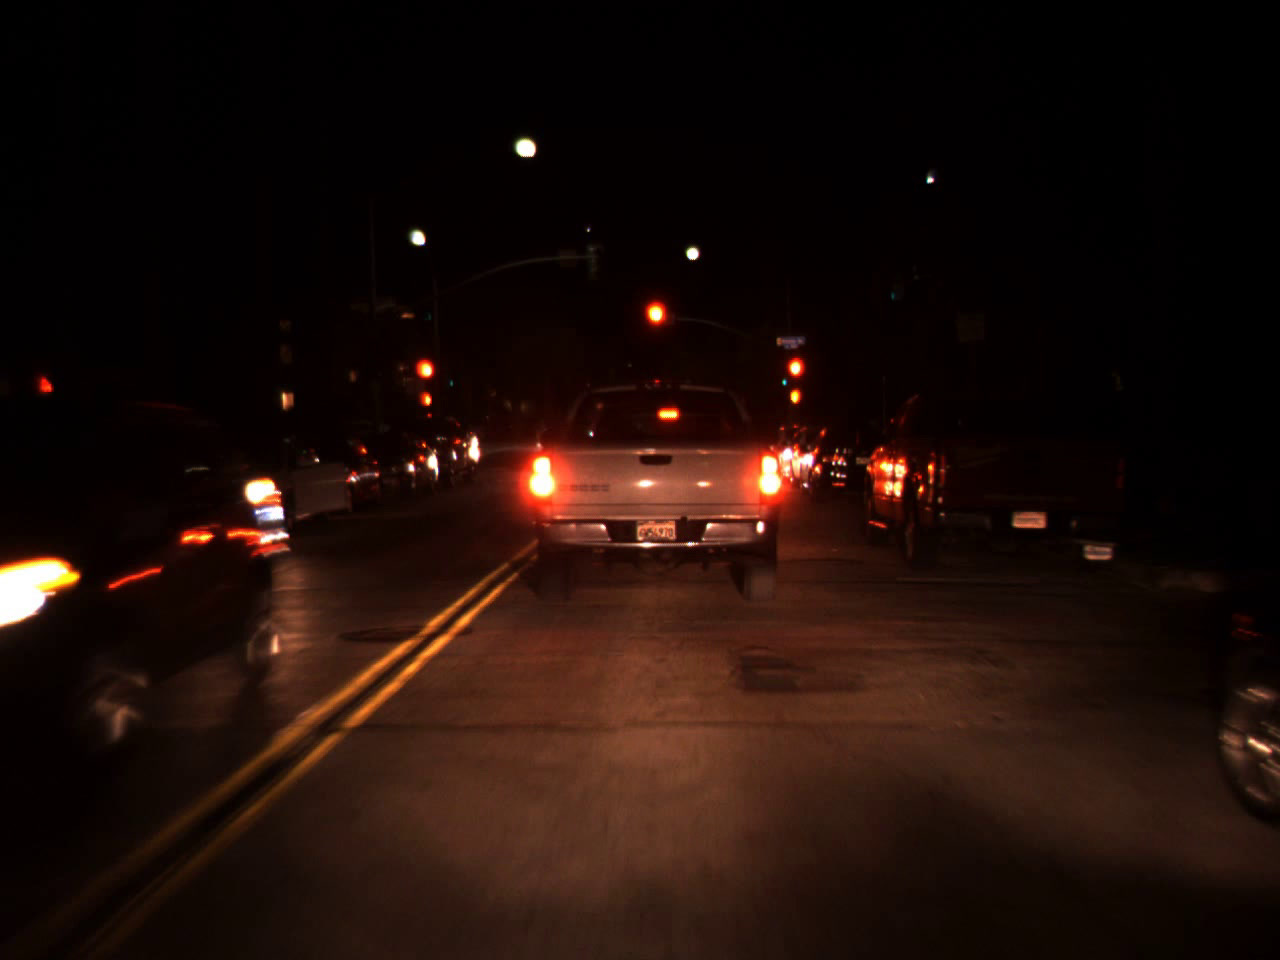stop: (642, 296, 670, 355), (412, 355, 437, 403), (784, 353, 808, 401)
